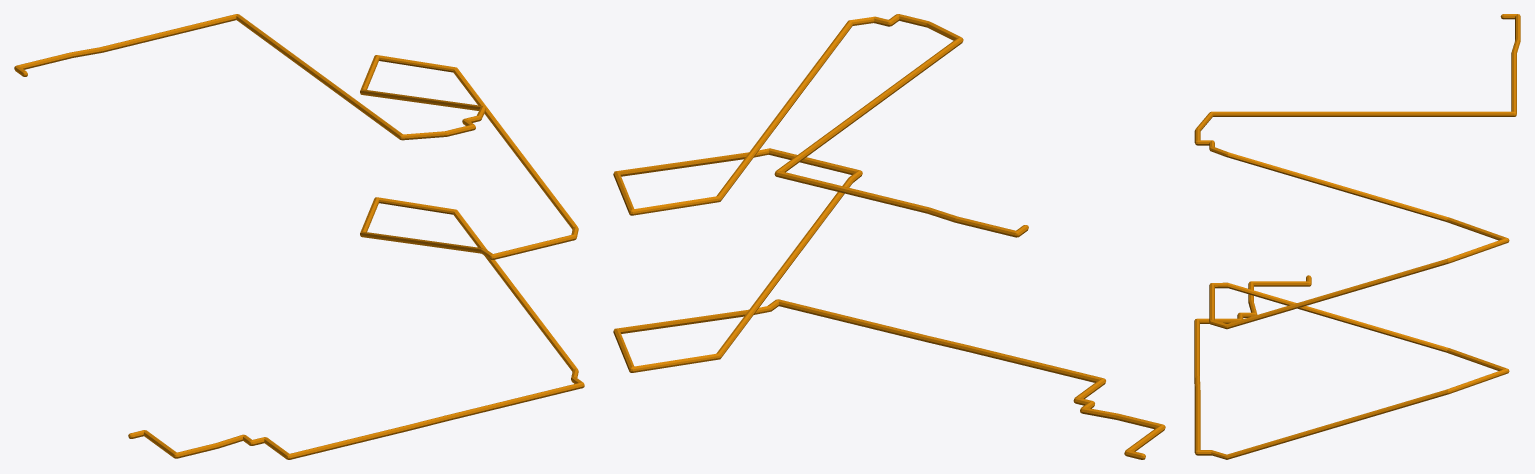
The picture shows the model from 3 angles, left to right: view 1: azimuth 30°, elevation 25°; view 2: azimuth 150°, elevation 25°; view 3: azimuth 270°, elevation 25°; orthographic projection. The views are drawn at different scales.
Size of the model in its own units: 1492 by 1020 by 1133.
